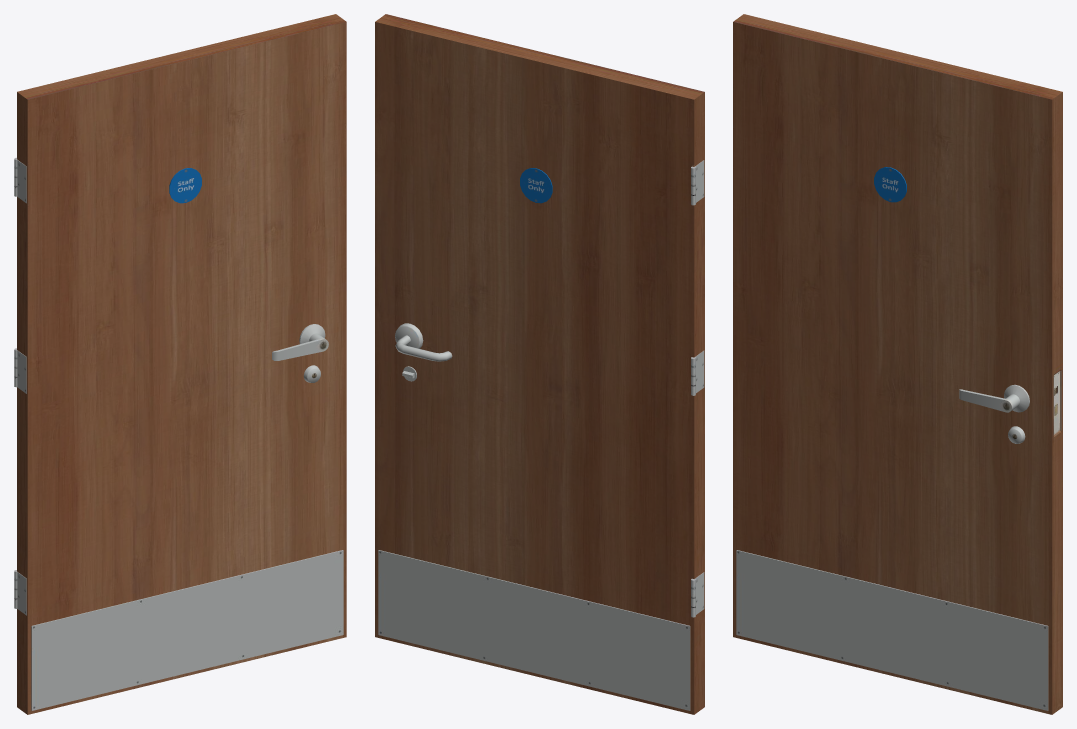
File: SM_Door_Staff_01.glb
3 renders of one model, left to right at view 1: azimuth 30°, elevation 25°; view 2: azimuth 150°, elevation 25°; view 3: azimuth 330°, elevation 25°, orthographic.
Visible parts, largest first — view 1: SM_Door_Staff_01; view 2: SM_Door_Staff_01; view 3: SM_Door_Staff_01.
Boxes of the visible parts, bbox=[...] form: SM_Door_Staff_01: bbox=[14, 14, 346, 714]; SM_Door_Staff_01: bbox=[375, 14, 704, 714]; SM_Door_Staff_01: bbox=[733, 14, 1062, 714].
Bounding box in the file's own units: 1.31 × 2.39 × 0.2679.
1 material, 1 textured.
